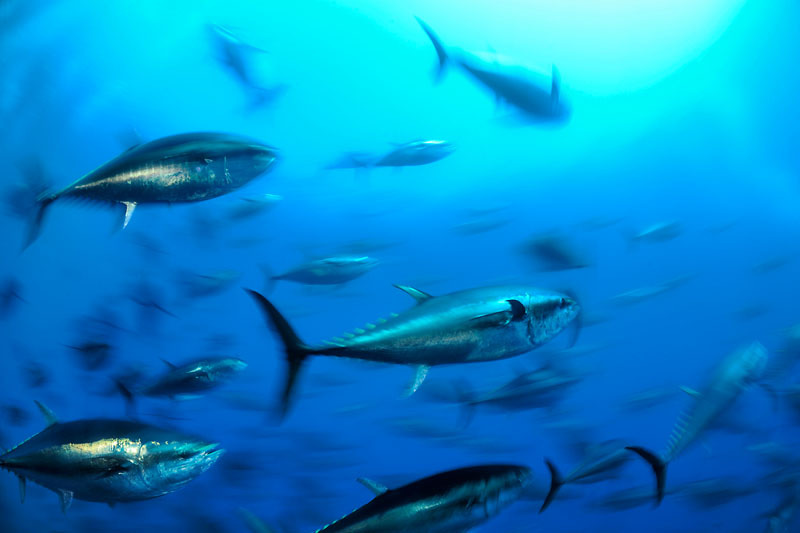Bluefina Tuna: (224, 267, 597, 414), (4, 397, 235, 518), (24, 134, 282, 212)
